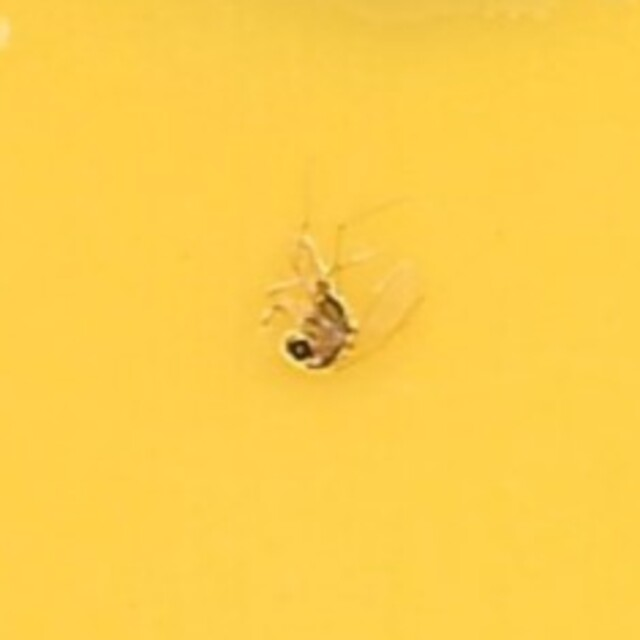Nematocera: (272, 256, 368, 384)
